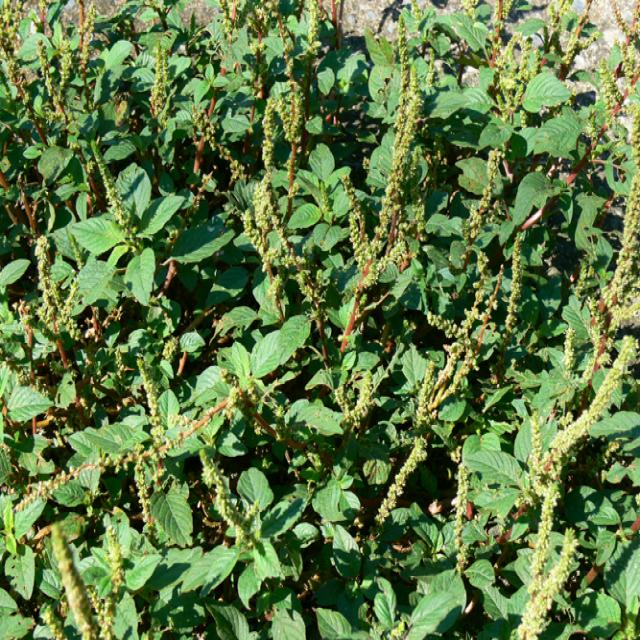Medicinal-Arive Dantu: (445, 141, 640, 396), (472, 420, 639, 640), (55, 130, 206, 332), (242, 88, 380, 304), (89, 380, 245, 540), (286, 360, 425, 512)
